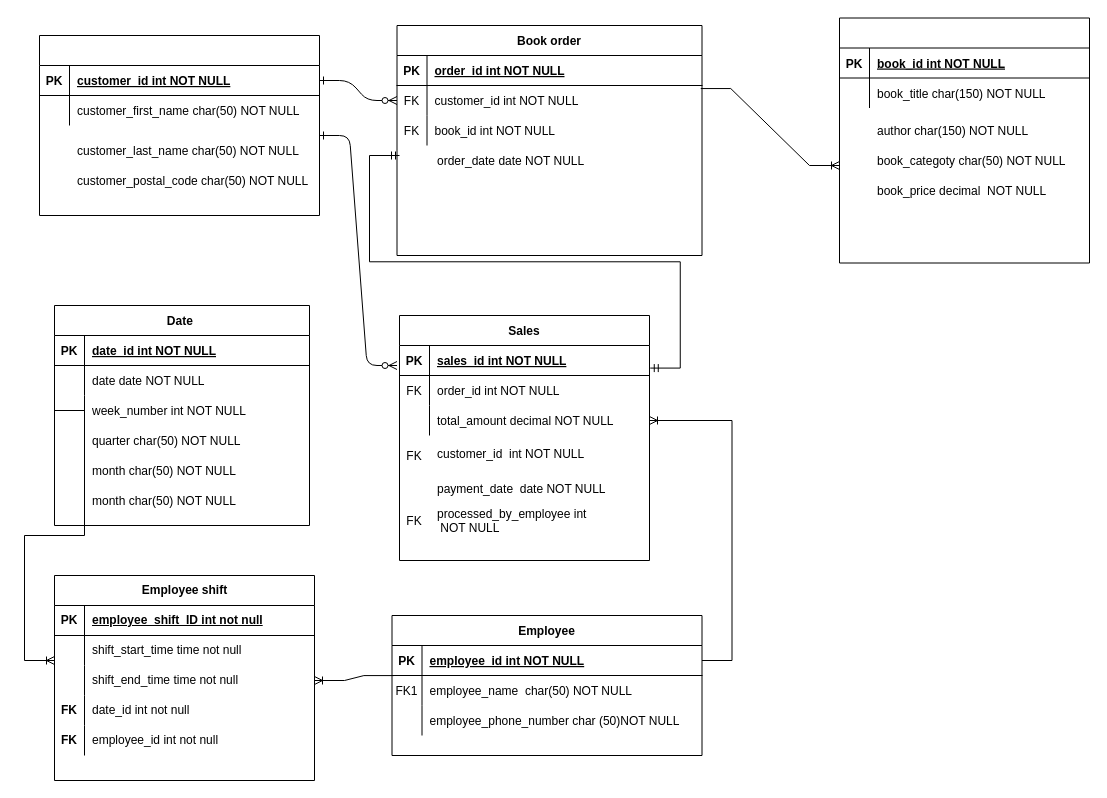
Image size: 1107x798. Some labels were removed from this diagram. Here are the shapes that lost their labels. From the top down, the box of each, then its label:
(38, 34, 320, 216): Customers
(838, 17, 1090, 263): Book entities
